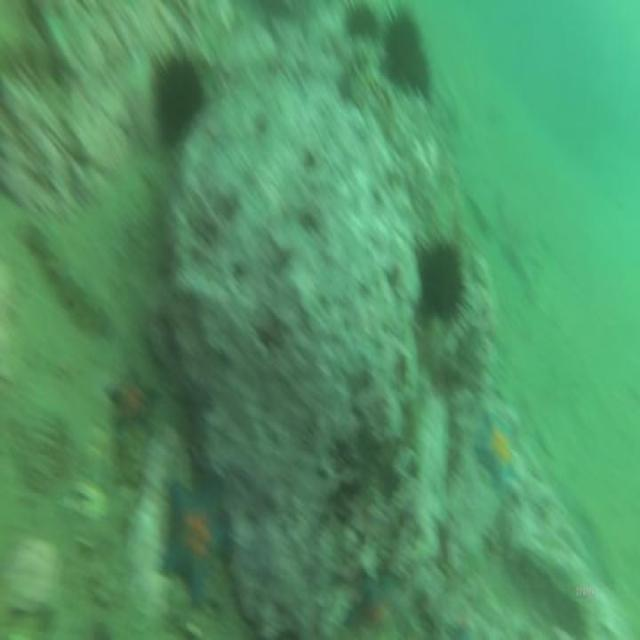echinus: (410, 221, 474, 340), (145, 44, 209, 154), (382, 2, 433, 96), (340, 2, 384, 49)
starfish: (161, 471, 237, 610), (472, 408, 527, 496), (105, 365, 163, 441), (358, 564, 404, 640)
